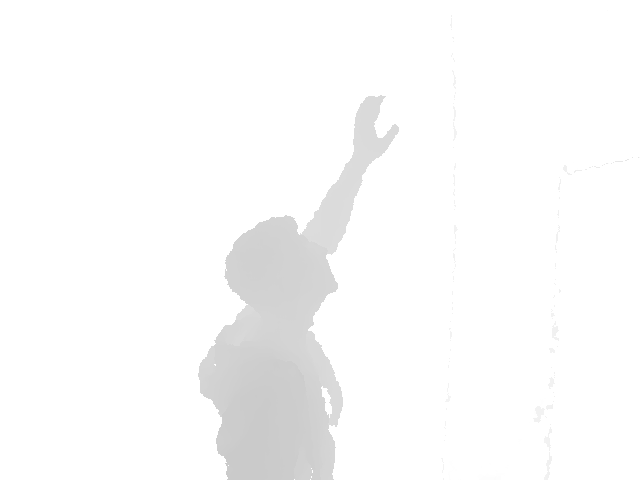hand: (350, 95, 401, 161)
head: (224, 216, 339, 314)
person: (197, 94, 401, 480)
